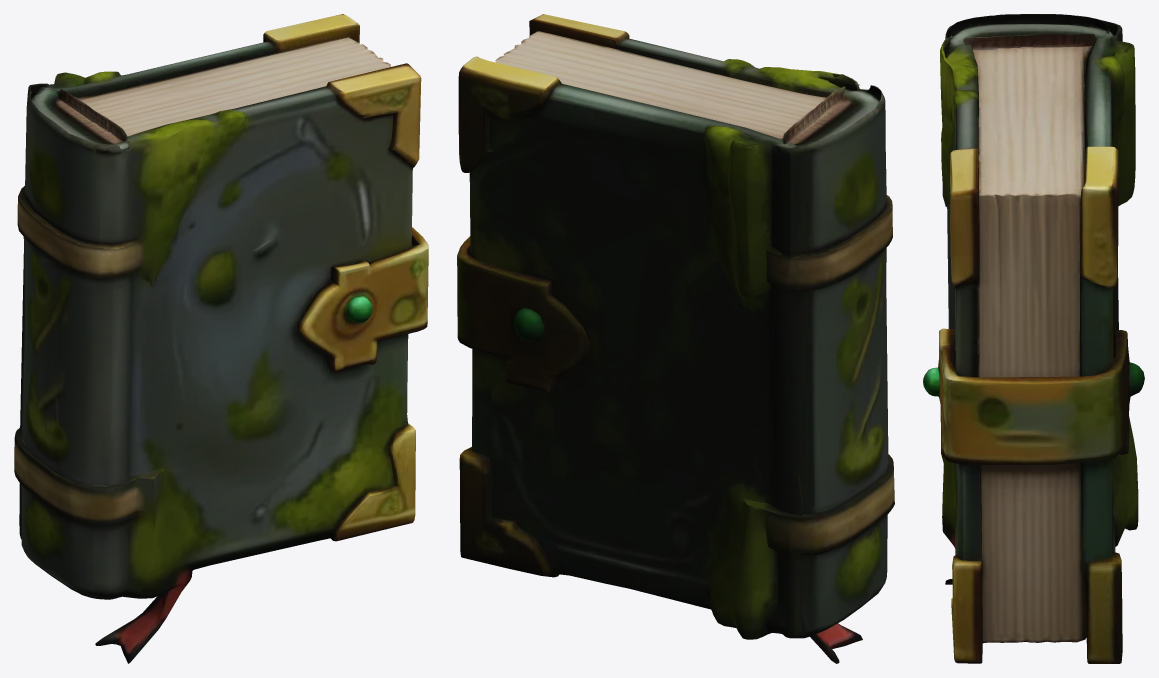
Rendered from marsh_witch_tome.glb.
The picture shows the model from 3 angles, left to right: view 1: azimuth 30°, elevation 25°; view 2: azimuth 150°, elevation 25°; view 3: azimuth 270°, elevation 25°; orthographic projection. The views are drawn at different scales.
Visible parts, largest first — view 1: world; view 2: world; view 3: world.
Part boxes in pixels (x1,y1,x2,y2): world: (14,14,428,663); world: (457,14,894,663); world: (923,14,1144,663).
Bounding box in the file's own units: 0.2155 × 0.2997 × 0.1089.
Materials: 1 (1 with a texture image).
